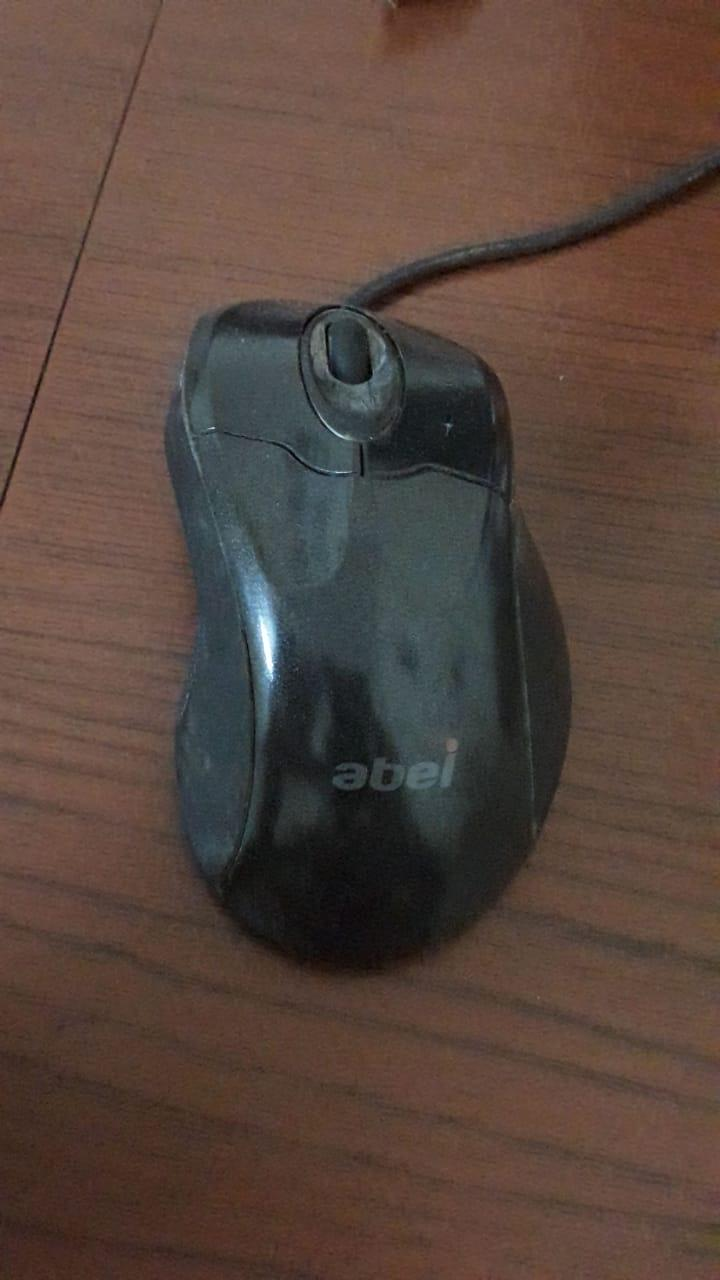mouse: (131, 269, 590, 1015)
